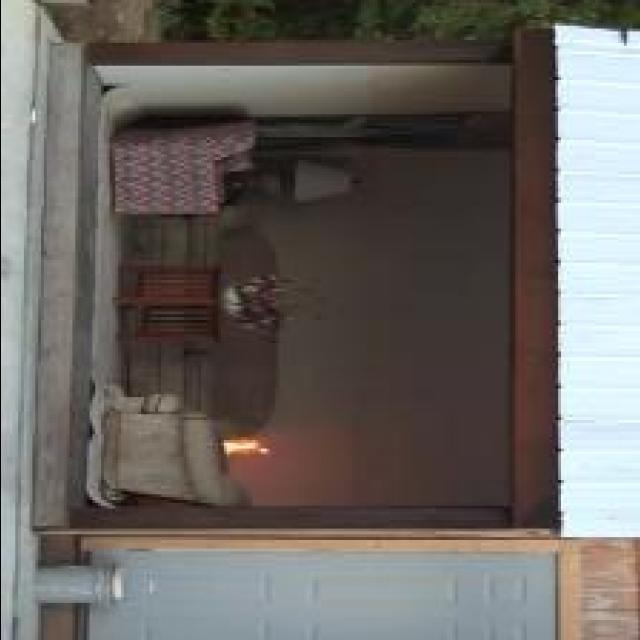Fire: (221, 437, 273, 454)
